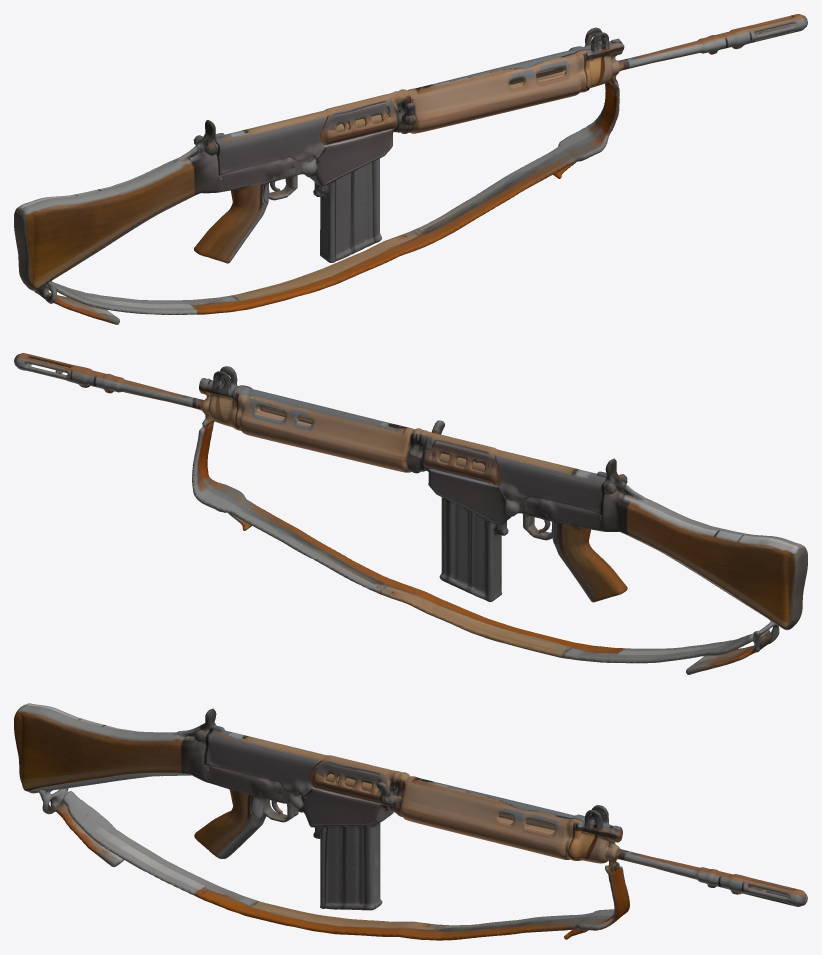
The model's file is rifle 3d model.glb.
The picture shows the model from 3 angles, top to bottom: view 1: azimuth 30°, elevation 25°; view 2: azimuth 150°, elevation 25°; view 3: azimuth 330°, elevation 25°; orthographic projection.
Parts seen in each view (by area): view 1: tripo_node_87e8666f-3819-4ab6-92cd-2ae93a7d7b93; view 2: tripo_node_87e8666f-3819-4ab6-92cd-2ae93a7d7b93; view 3: tripo_node_87e8666f-3819-4ab6-92cd-2ae93a7d7b93.
Part boxes in pixels (box(x1,y1,x2,y2)): tripo_node_87e8666f-3819-4ab6-92cd-2ae93a7d7b93: box(14, 14, 807, 324); tripo_node_87e8666f-3819-4ab6-92cd-2ae93a7d7b93: box(14, 353, 807, 674); tripo_node_87e8666f-3819-4ab6-92cd-2ae93a7d7b93: box(14, 703, 807, 940).
Bounding box in the file's own units: 1 × 0.2397 × 0.0811.
Materials: 1 (1 with a texture image).
